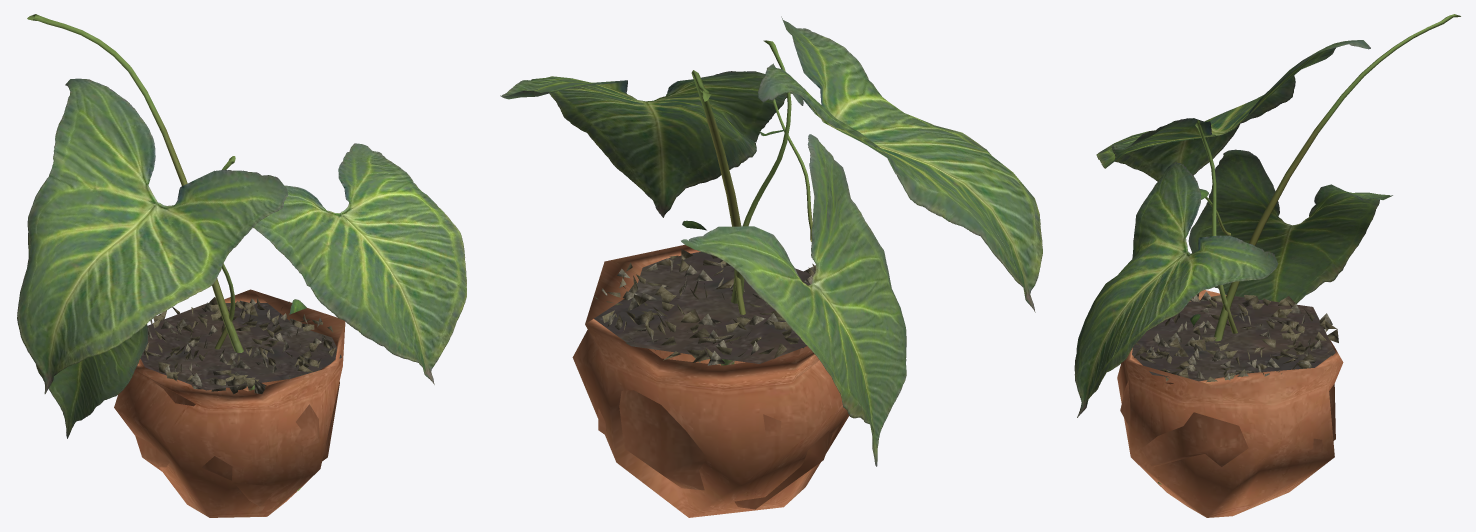
File: potted_plant_02.glb
The picture shows the model from 3 angles, left to right: view 1: azimuth 30°, elevation 25°; view 2: azimuth 150°, elevation 25°; view 3: azimuth 270°, elevation 25°; orthographic projection. The views are drawn at different scales.
Parts seen in each view (by area): view 1: potted_plant_02_leaves, potted_plant_02_pot, potted_plant_02_dirt; view 2: potted_plant_02_leaves, potted_plant_02_pot, potted_plant_02_dirt; view 3: potted_plant_02_leaves, potted_plant_02_pot, potted_plant_02_dirt.
Part boxes in pixels (<box>): potted_plant_02_leaves: <box>17,14,466,490</box>; potted_plant_02_pot: <box>114,289,345,517</box>; potted_plant_02_dirt: <box>140,297,341,394</box>; potted_plant_02_leaves: <box>500,16,1042,466</box>; potted_plant_02_pot: <box>572,245,849,517</box>; potted_plant_02_dirt: <box>594,249,815,365</box>; potted_plant_02_leaves: <box>1074,14,1460,484</box>; potted_plant_02_pot: <box>1117,290,1343,517</box>; potted_plant_02_dirt: <box>1132,291,1338,382</box>.
Size of the model in its own units: 0.9159 by 0.9049 by 0.7352.
Materials: 2 (2 with a texture image).
